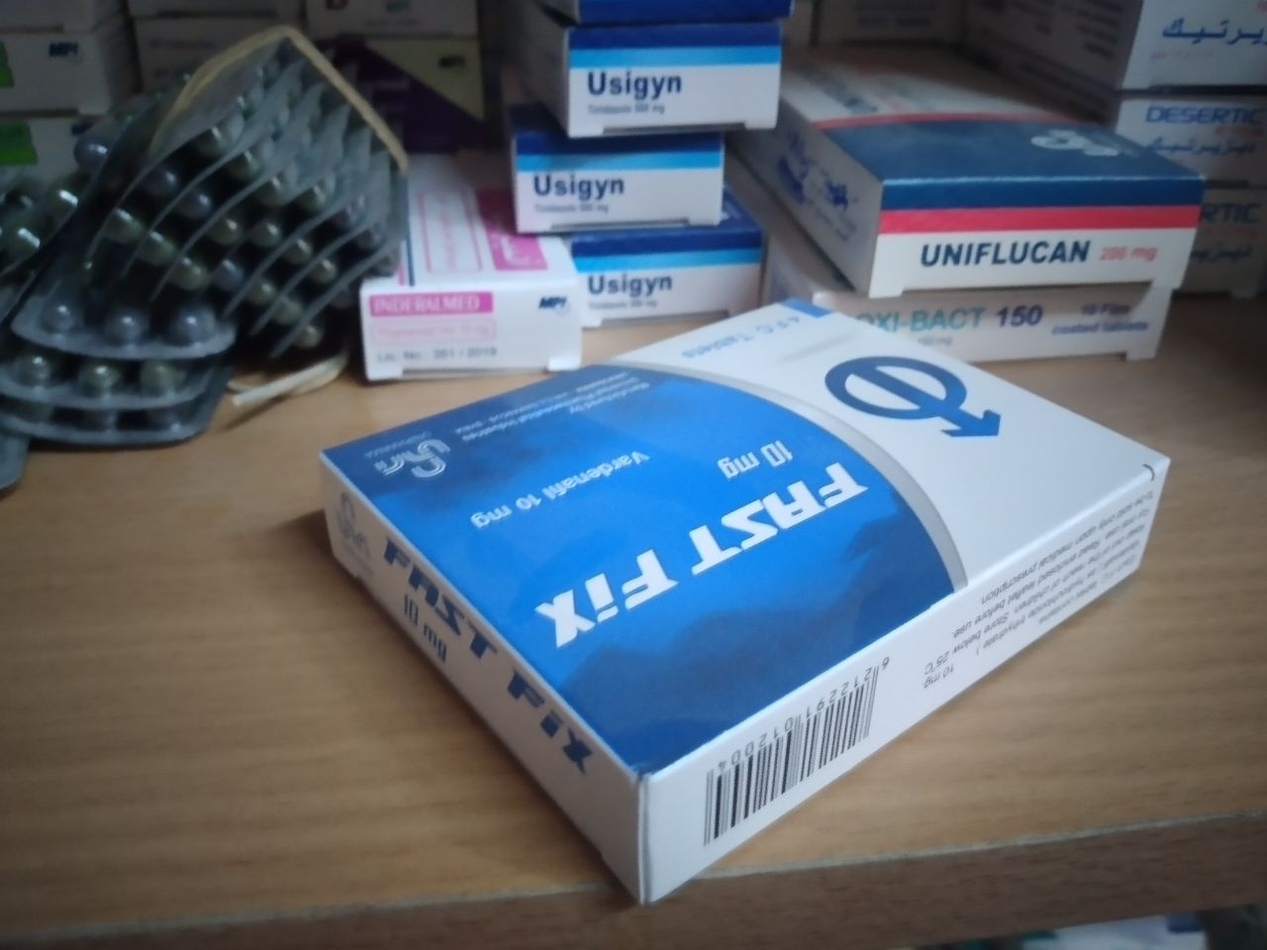Medicine: (312, 277, 1190, 913), (767, 17, 1215, 317), (752, 213, 1190, 383), (344, 129, 591, 386), (478, 0, 797, 151), (997, 5, 1267, 99), (1084, 62, 1267, 200), (487, 139, 735, 235), (552, 228, 775, 332)
